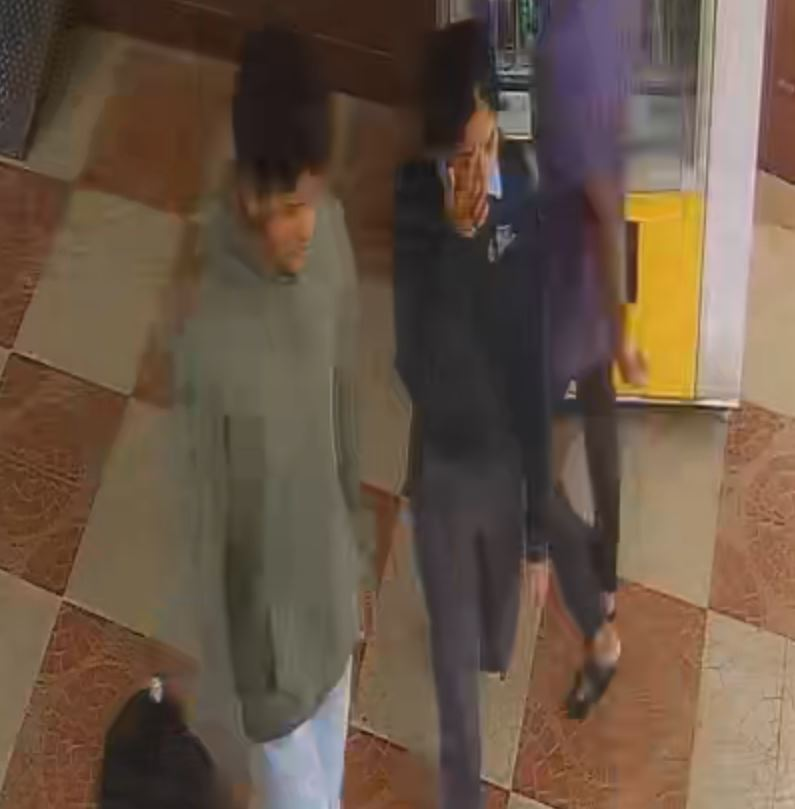intruder: (169, 37, 370, 809), (387, 17, 556, 809)
